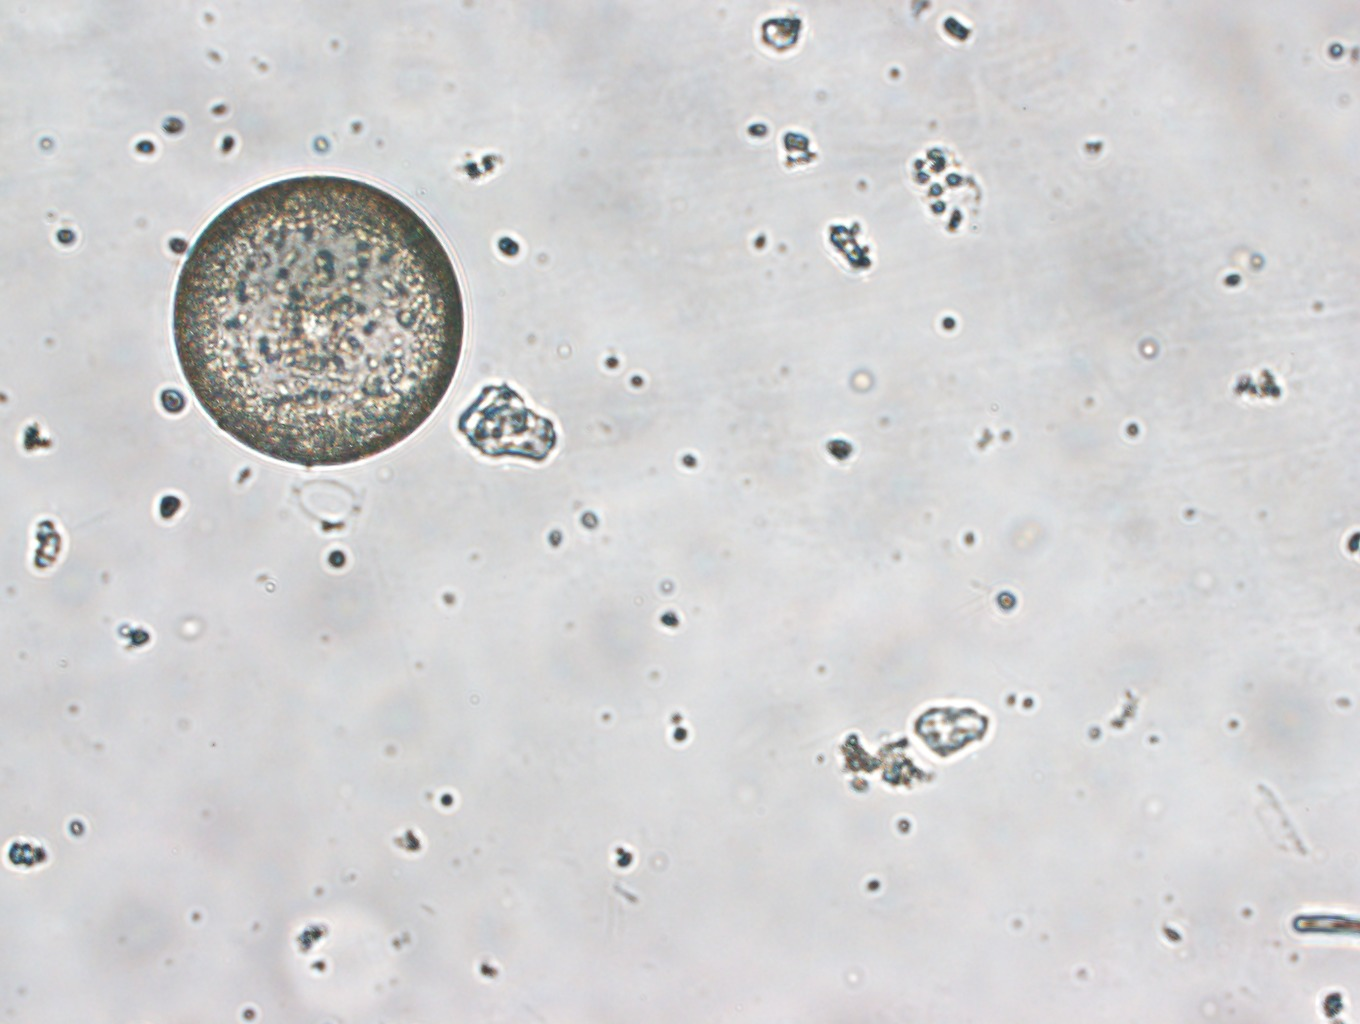coscinodiscus: (166, 169, 473, 472)
